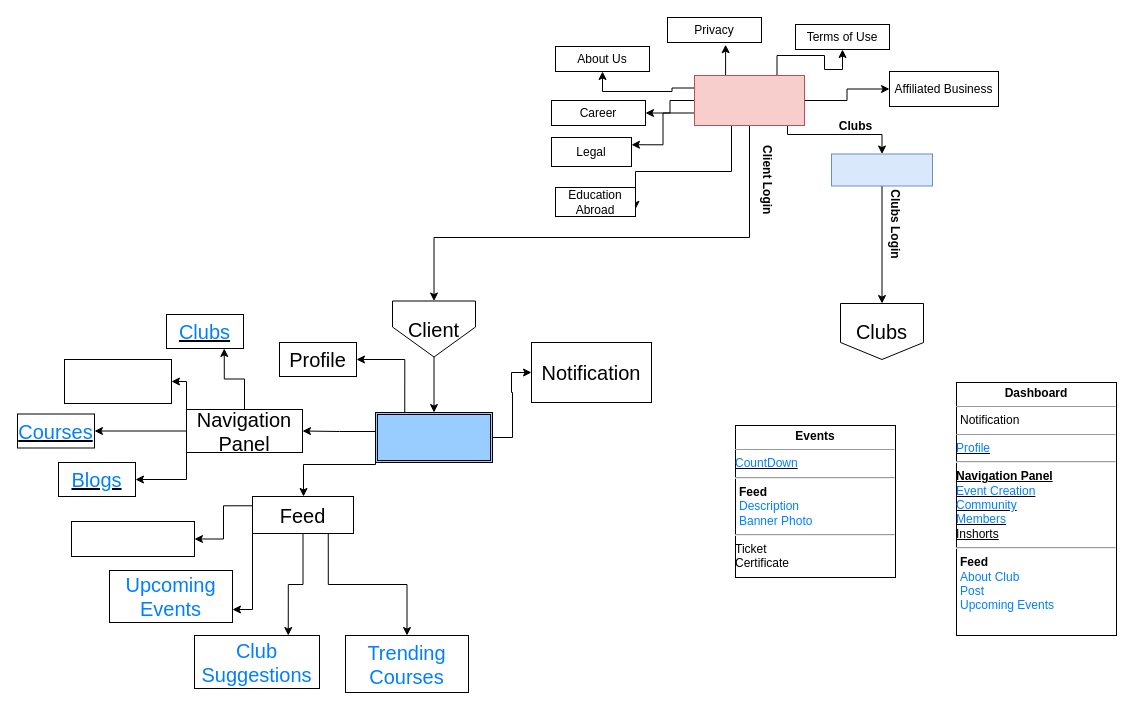
This 1134x710 diagram has some shape labels left out. The shapes that lost their labels are listed below. From the top down, each one's centre as x and y in pixels, then its label:
the point at 749,100: HomePage
the point at 881,169: Partners
the point at 118,381: Community
the point at 433,437: DashBoard
the point at 132,538: Popular Club
